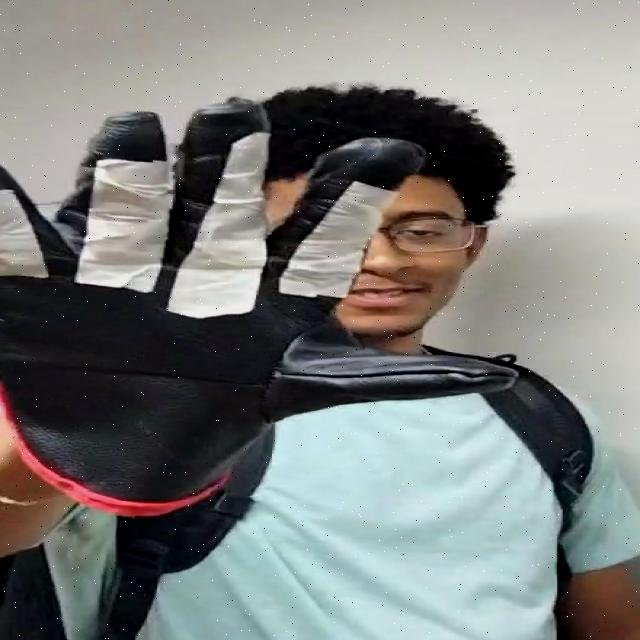Gloves: (0, 97, 479, 524)
